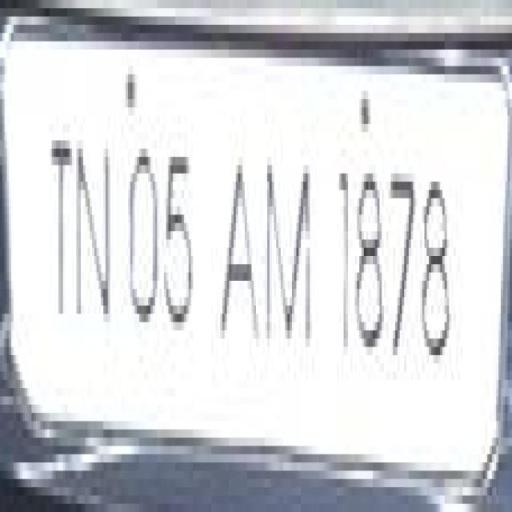number plate: (24, 33, 508, 462)
